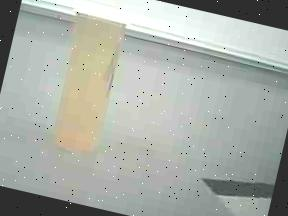Bottle A: (54, 1, 128, 151)
